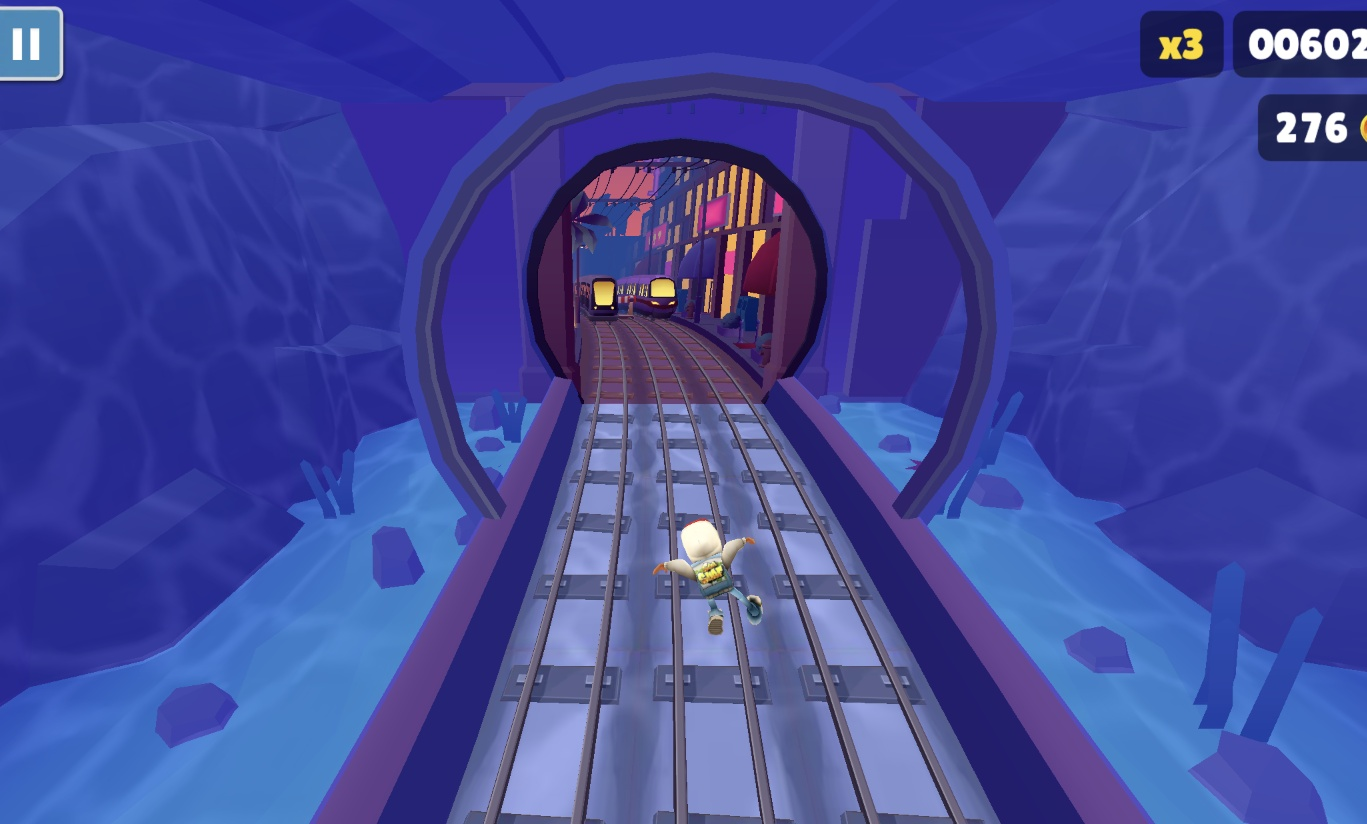ground_barrier: (616, 294, 640, 319)
train: (616, 276, 681, 318), (590, 277, 619, 322)
